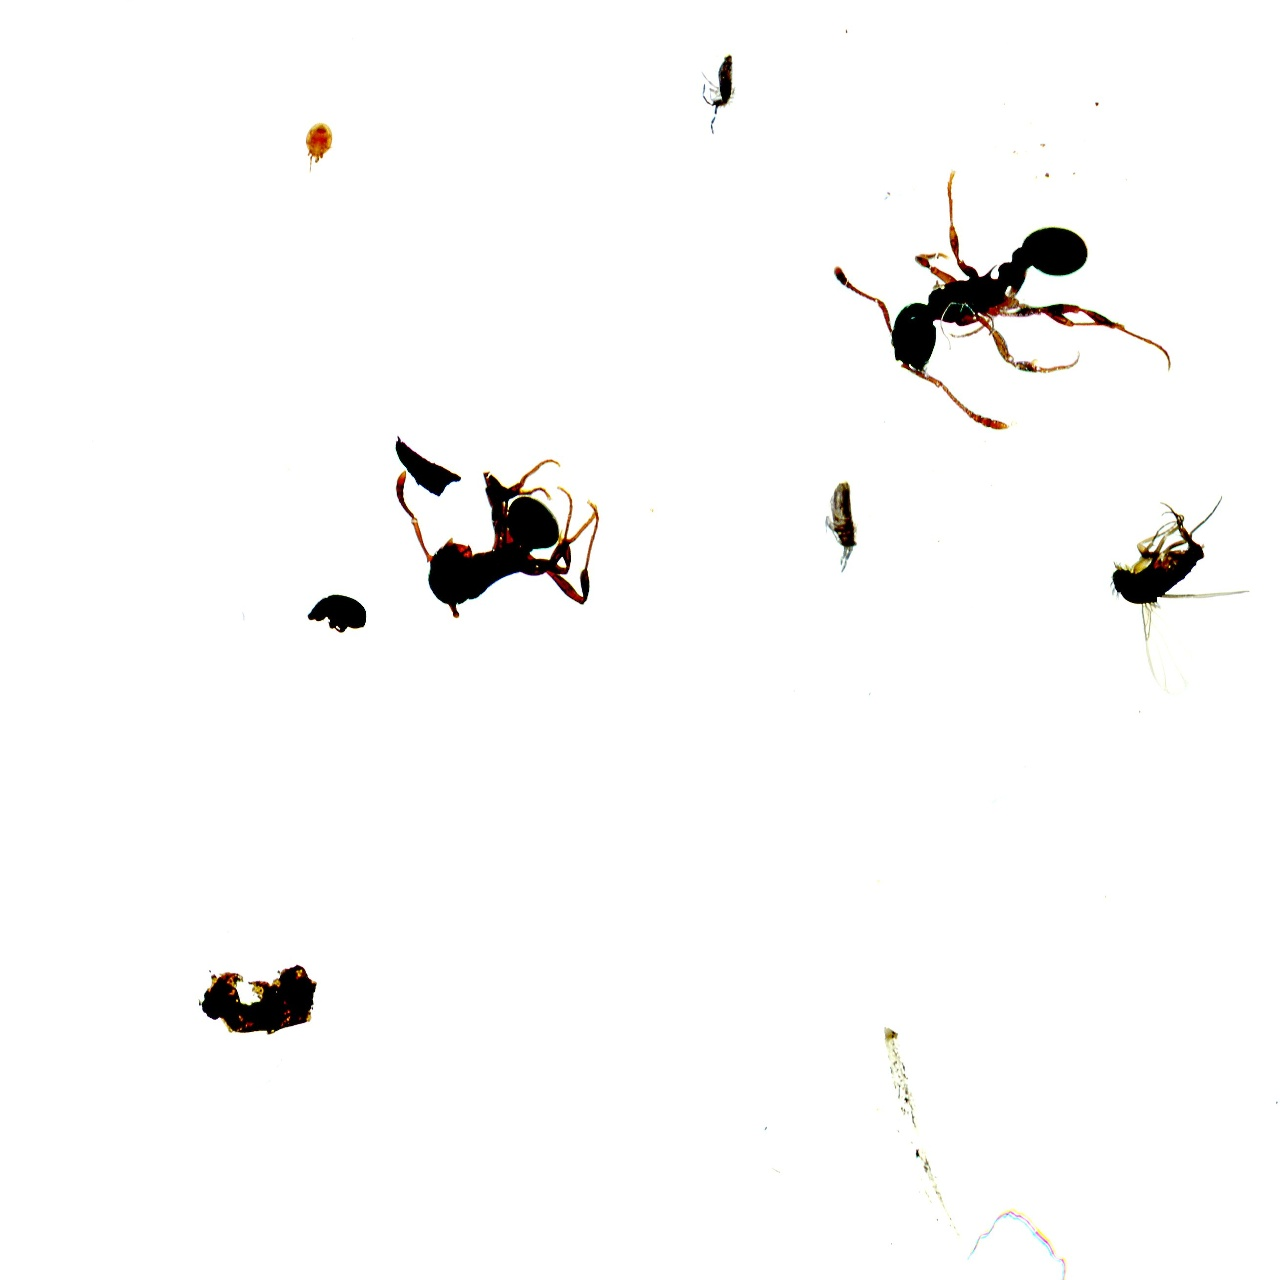arthropod: (818, 171, 1182, 437), (381, 449, 602, 631), (1105, 488, 1258, 694), (693, 41, 741, 135), (823, 476, 866, 577), (306, 592, 369, 636), (305, 121, 335, 175)
